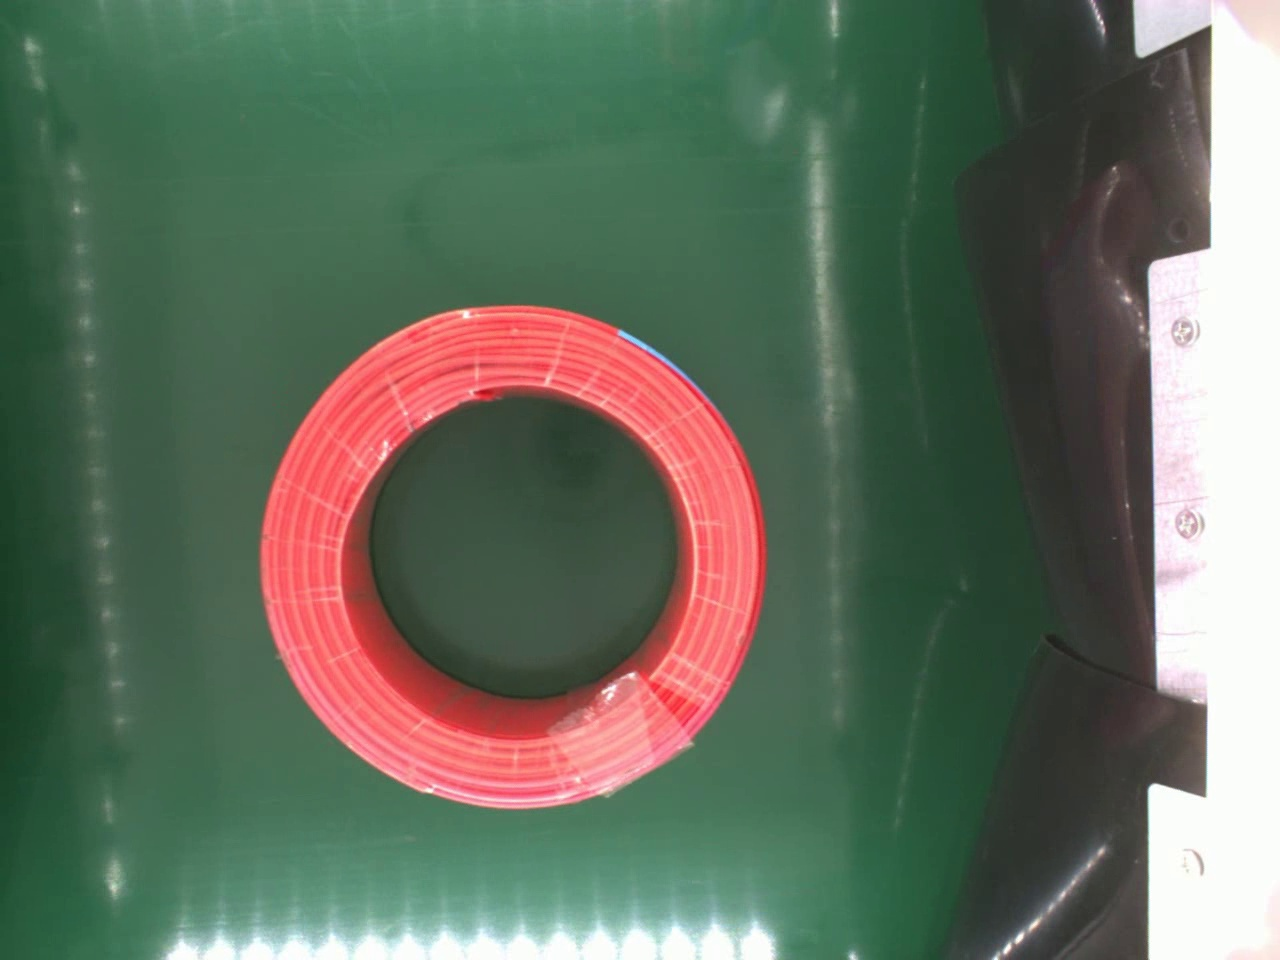red: (256, 299, 765, 809)
